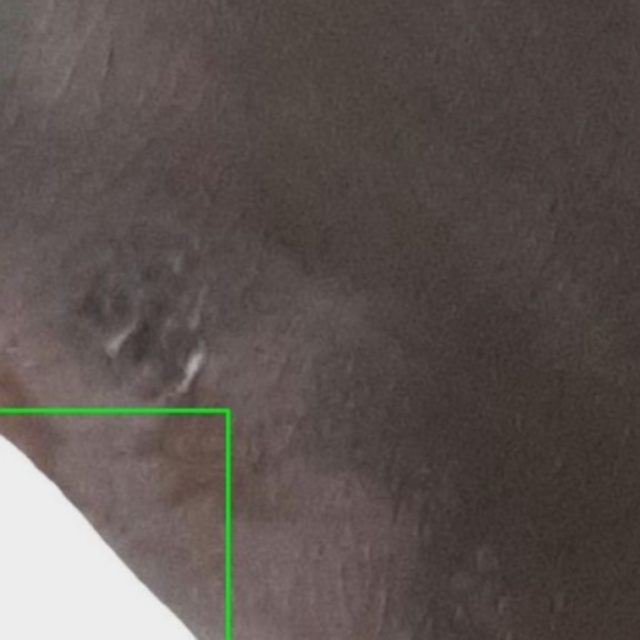Eczema: (0, 410, 227, 639)
